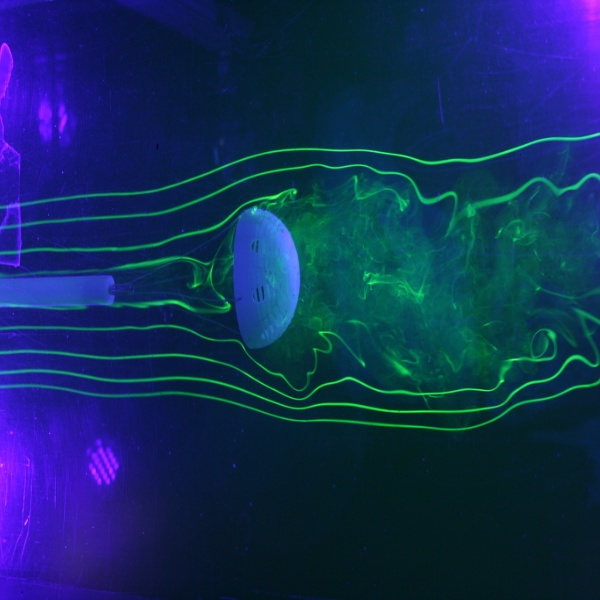Jellyfish: (0, 206, 299, 351)
